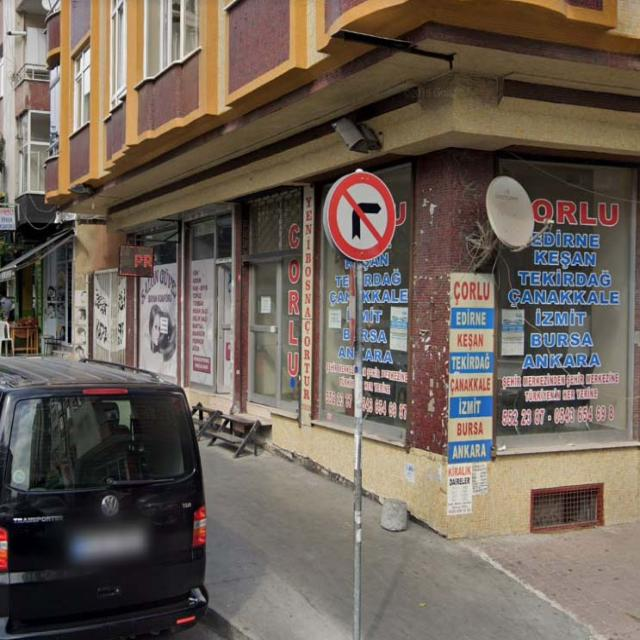sagadonulmez: (329, 170, 396, 262)
